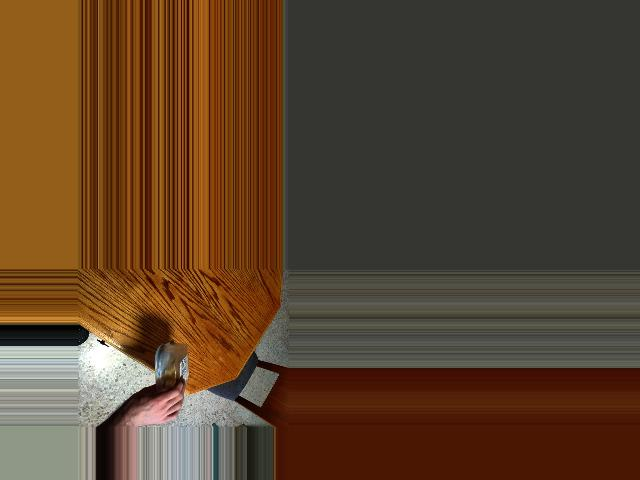cheese: (143, 346, 198, 411)
